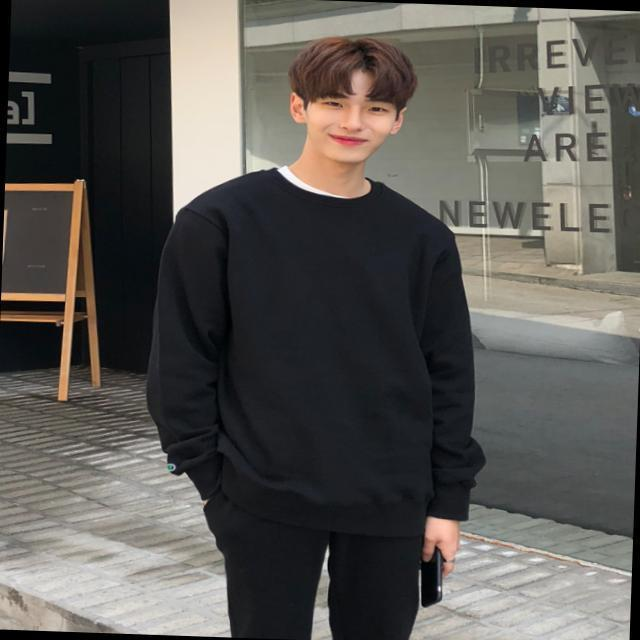short sleeve shirt: (275, 158, 372, 199)
sweater: (143, 162, 489, 539)
trousers: (215, 516, 427, 640)
